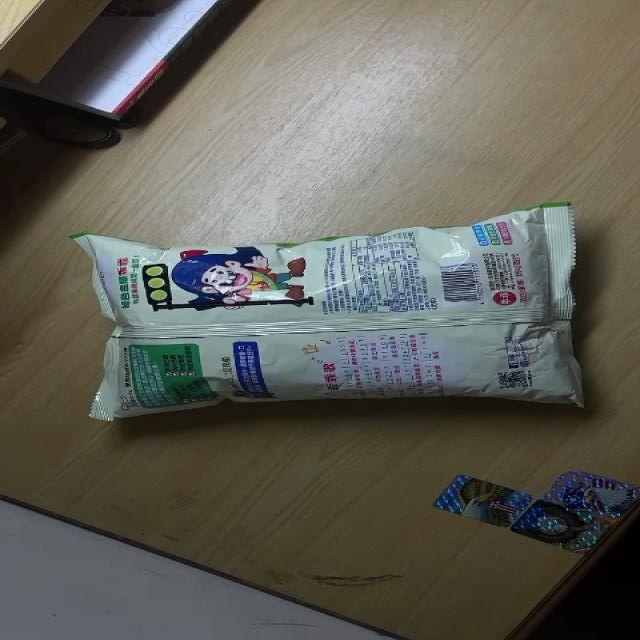Good-Luck: (66, 200, 591, 429)
